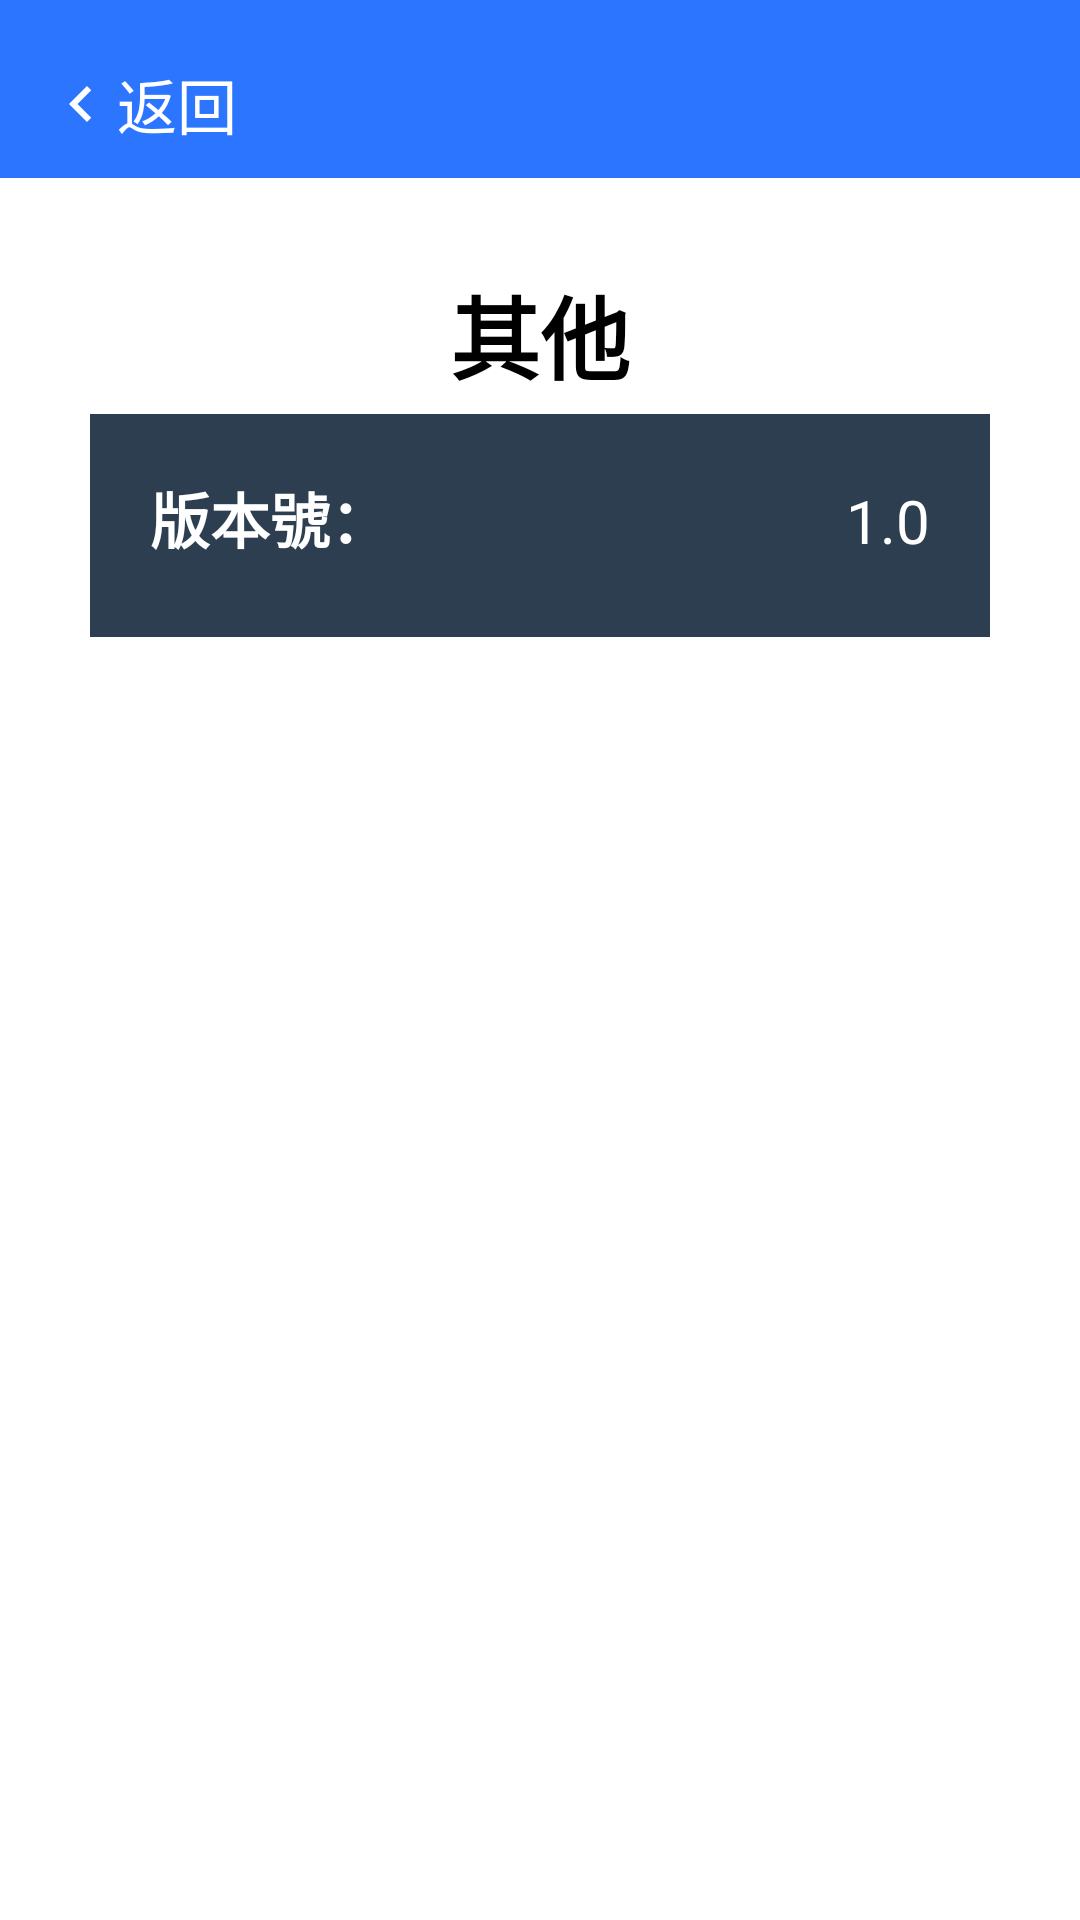

Named icons in this screenshot (1080px x 1920px) and their bounding boxes, (x1, y1, x2, y2):
chevron left: (69, 86, 91, 122)
